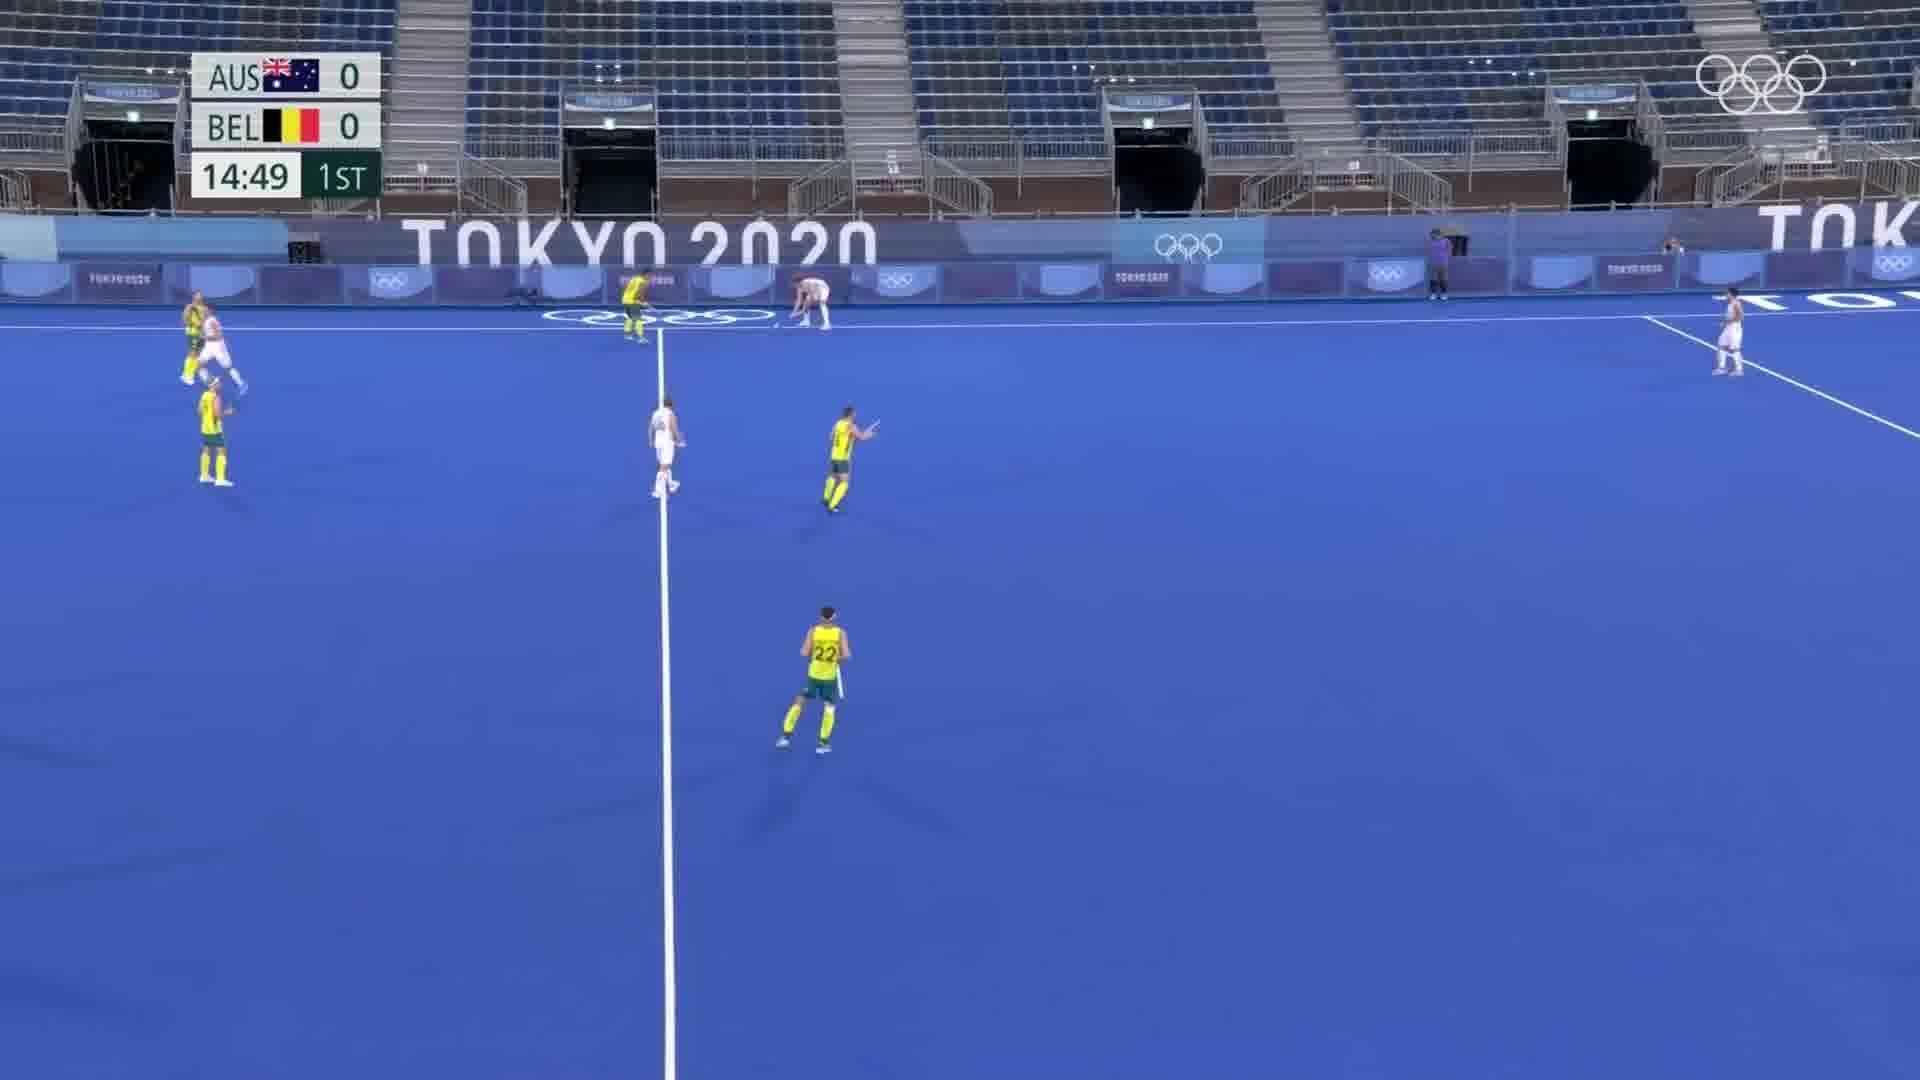ball: (771, 320, 783, 332)
